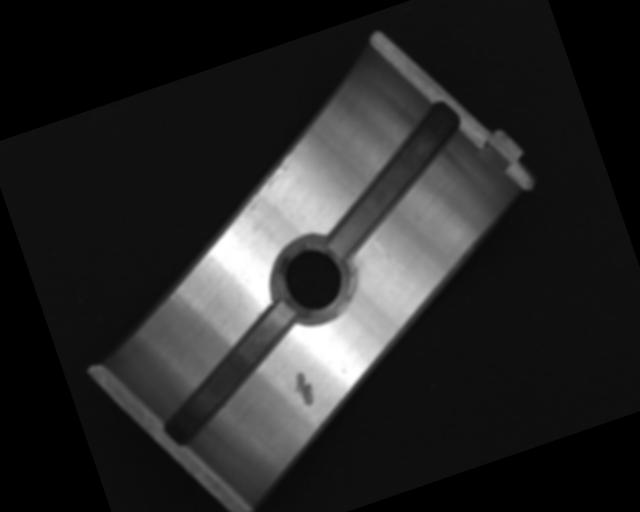bruise: (286, 368, 319, 411)
gap: (298, 96, 488, 262), (138, 299, 324, 450)
hole: (269, 231, 361, 332)
nick: (369, 231, 408, 285)
